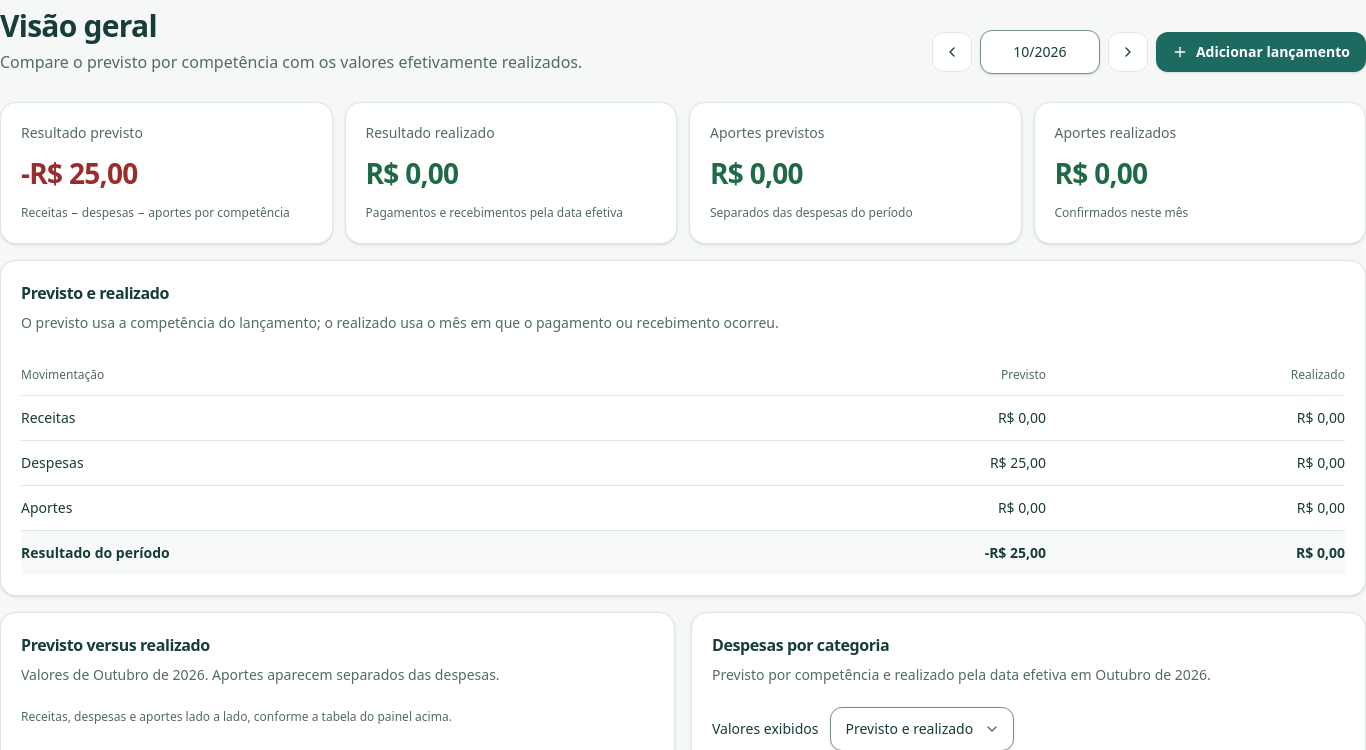
Test: financial dashboard › shows an empty state when the selected category series has no realized values
Select "Somente realizado" in the dropdown named "Valores do gráfico por categoria": (922, 729) [830,707,1014,749]
(page scrolled)
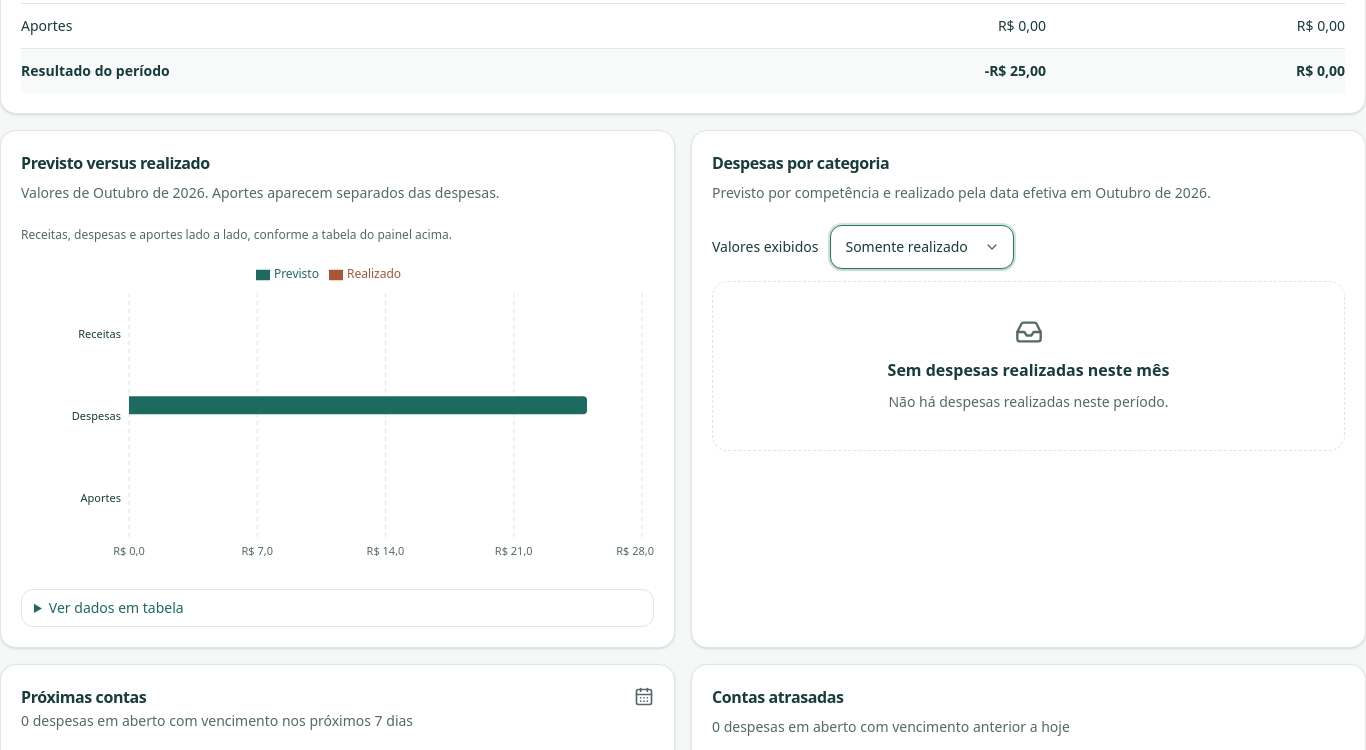
Expected: the message "Sem despesas realizadas neste mês" is shown, [712,281,1345,451]
